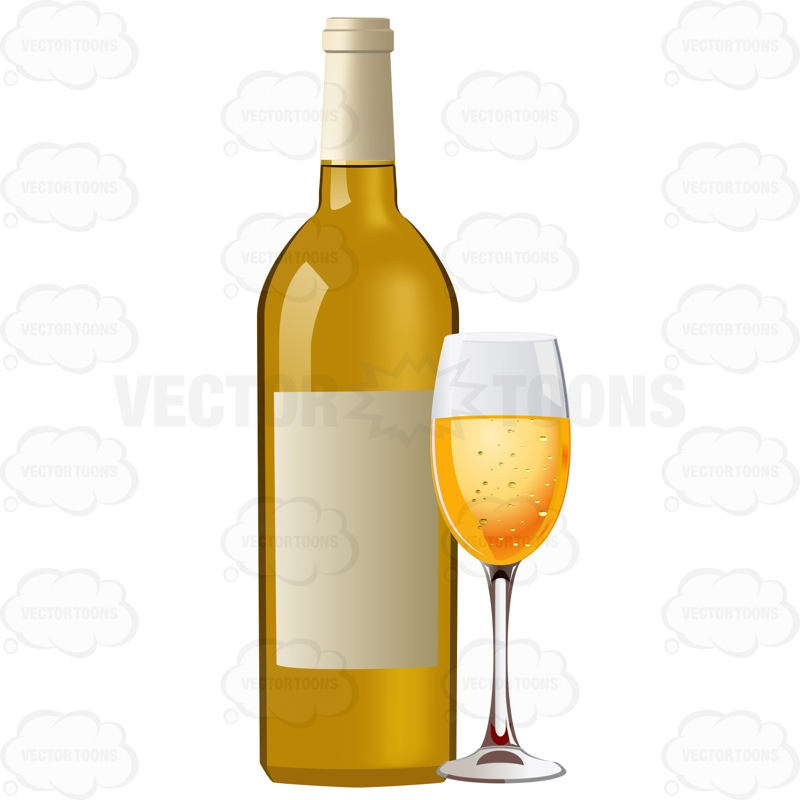bottle: (248, 12, 465, 786)
